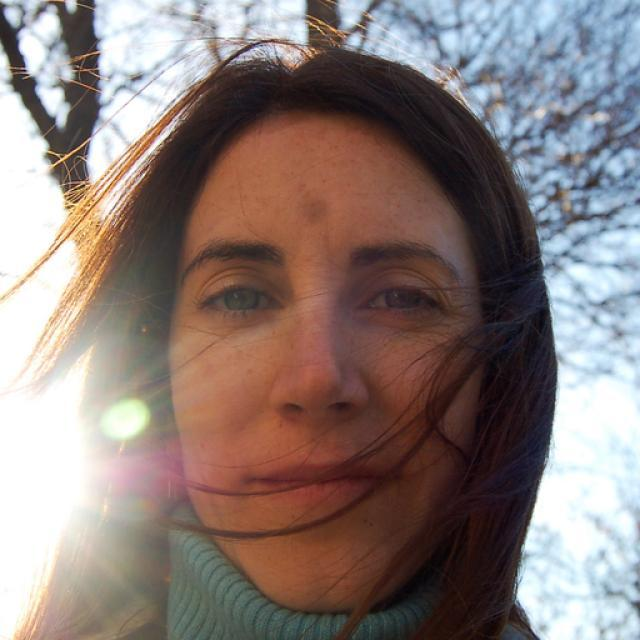happy: (168, 108, 492, 600)
